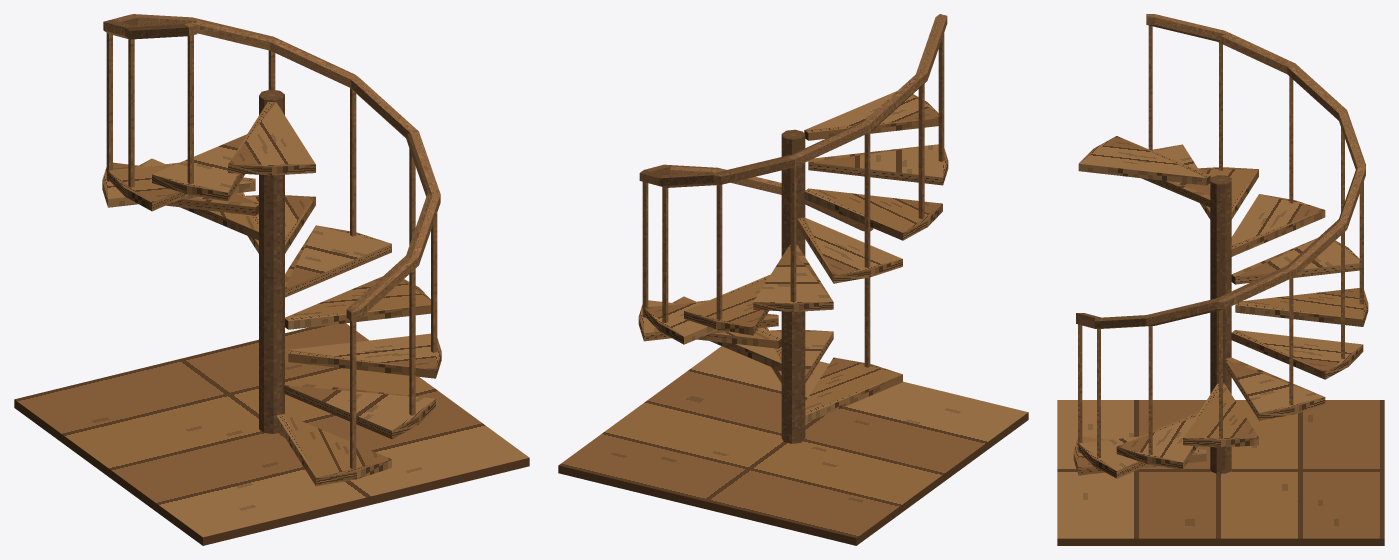
Rendered from t_stairs_up_2x2.glb.
3 views of the same model, side by side, from view 1: azimuth 30°, elevation 25°; view 2: azimuth 150°, elevation 25°; view 3: azimuth 270°, elevation 25° (orthographic). The views are drawn at different scales.
Visible parts, largest first — view 1: block_tile, block_pole, block_tread1, block_tread2, block_tread0, block_tread4, block_tread11, block_tread3, block_tread10, block_tread9, block_shand0, block_shand4 (+16 smaller); view 2: block_tile, block_pole, block_tread9, block_tread10, block_tread8, block_tread0, block_tread7, block_tread11, block_tread6, block_tread5, block_shand7, block_shand6 (+15 smaller); view 3: block_tile, block_pole, block_tread11, block_tread5, block_tread6, block_tread4, block_tread8, block_tread3, block_tread2, block_tread7, block_tread1, block_tread10 (+21 smaller).
Boxes of the visible parts, x1,y1,x2,y2 form: block_tile: [14, 323, 529, 545]; block_pole: [259, 89, 284, 433]; block_tread1: [284, 382, 435, 438]; block_tread2: [288, 333, 441, 378]; block_tread0: [276, 413, 391, 486]; block_tread4: [285, 225, 391, 297]; block_tread11: [228, 102, 315, 175]; block_tread3: [285, 276, 430, 329]; block_tread10: [152, 134, 246, 201]; block_tread9: [108, 162, 189, 211]; block_shand0: [346, 256, 418, 320]; block_shand4: [270, 37, 359, 87]; block_tile: [558, 346, 1028, 545]; block_pole: [781, 129, 805, 443]; block_tread9: [804, 188, 942, 240]; block_tread10: [808, 144, 948, 185]; block_tread8: [797, 217, 902, 283]; block_tread0: [805, 357, 902, 423]; block_tread7: [753, 245, 833, 311]; block_tread11: [804, 91, 938, 140]; block_tread6: [684, 274, 770, 335]; block_tread5: [644, 300, 718, 344]; block_shand7: [788, 121, 868, 166]; block_shand6: [713, 155, 794, 184]; block_tile: [1057, 400, 1384, 545]; block_pole: [1210, 175, 1231, 473]; block_tread11: [1078, 136, 1210, 185]; block_tread5: [1231, 330, 1363, 379]; block_tread6: [1235, 288, 1368, 326]; block_tread4: [1224, 357, 1325, 420]; block_tread8: [1231, 194, 1325, 256]; block_tread3: [1183, 383, 1258, 447]; block_tread2: [1116, 412, 1198, 469]; block_tread7: [1231, 238, 1359, 284]; block_tread1: [1078, 436, 1150, 478]; block_tread10: [1142, 144, 1210, 207].
Bounding box in the file's own units: 2 × 2.76 × 2.
1 material, 1 textured.
